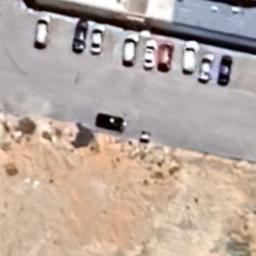SUV: (122, 34, 140, 66), (34, 15, 51, 48), (183, 40, 199, 74)
sedan: (216, 54, 234, 87), (157, 39, 174, 72), (72, 20, 88, 54), (198, 53, 214, 85), (142, 38, 156, 70), (90, 24, 104, 56)
van: (95, 112, 127, 133)
